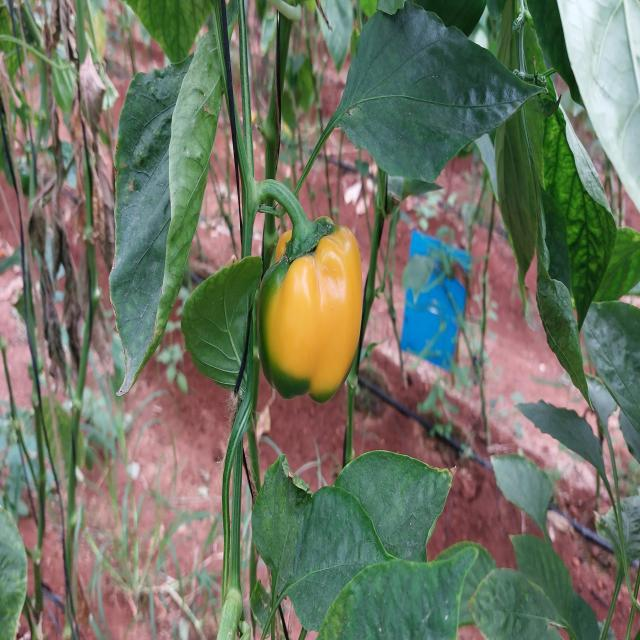Yellow-Ready-to-Harvest: (265, 228, 366, 395)
